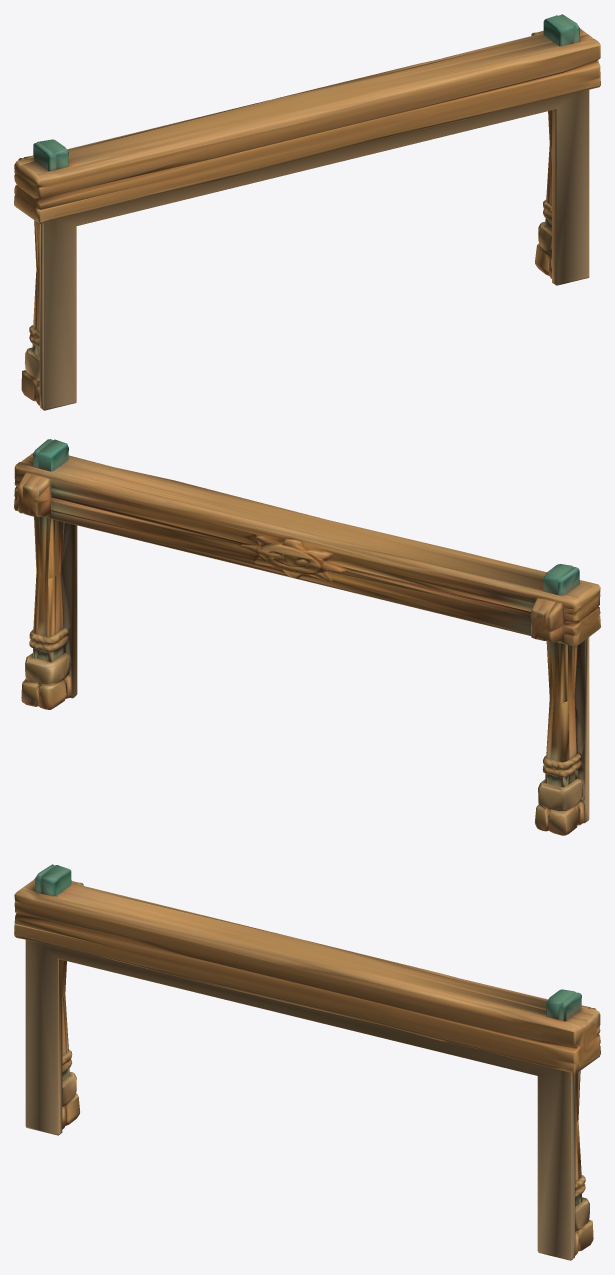
The model's file is asset.glb.
3 renders of one model, top to bottom at view 1: azimuth 30°, elevation 25°; view 2: azimuth 150°, elevation 25°; view 3: azimuth 330°, elevation 25°, orthographic.
Visible parts, largest first — view 1: tripo_node_1244f730-6e20-4fee-abde-d2e9acaafe53; view 2: tripo_node_1244f730-6e20-4fee-abde-d2e9acaafe53; view 3: tripo_node_1244f730-6e20-4fee-abde-d2e9acaafe53.
Boxes of the visible parts, x1,y1,x2,y2 form: tripo_node_1244f730-6e20-4fee-abde-d2e9acaafe53: (14,14,600,410); tripo_node_1244f730-6e20-4fee-abde-d2e9acaafe53: (14,439,600,835); tripo_node_1244f730-6e20-4fee-abde-d2e9acaafe53: (14,864,600,1260).
Bounding box in the file's own units: 71.67 × 30.78 × 8.
1 material, 1 textured.
